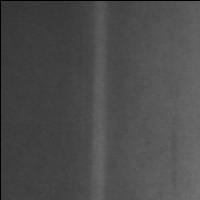scratches: (89, 10, 108, 193)
